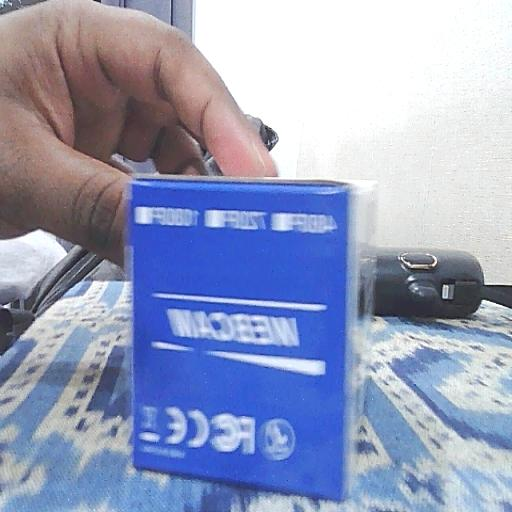webcam_box: (124, 170, 378, 504)
